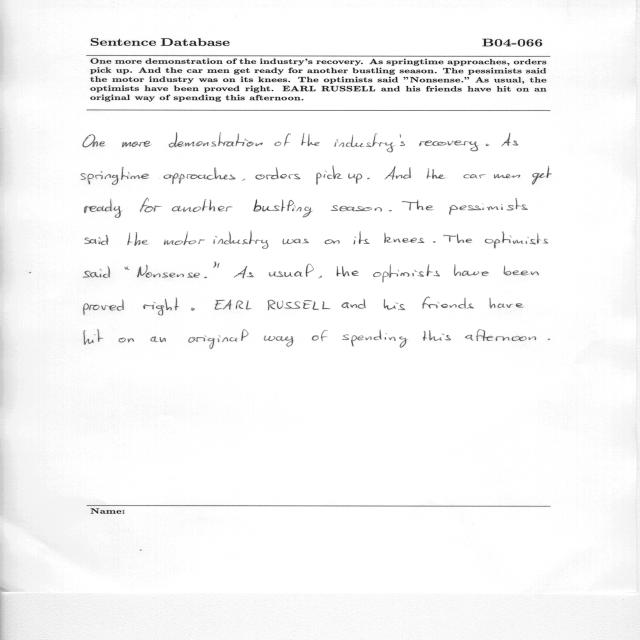word: (169, 133, 263, 148), (334, 133, 405, 152), (449, 198, 528, 215), (342, 329, 408, 348), (163, 167, 236, 184), (81, 167, 149, 185), (188, 329, 249, 349), (373, 265, 440, 283), (485, 232, 549, 249), (253, 199, 313, 217), (214, 231, 269, 249), (465, 329, 536, 341), (137, 265, 200, 278), (172, 199, 233, 212), (85, 199, 122, 218), (143, 297, 179, 316), (419, 141, 478, 152), (268, 300, 331, 310), (422, 297, 474, 309), (84, 300, 124, 315), (256, 167, 301, 180), (269, 264, 314, 277), (164, 231, 205, 245), (316, 166, 343, 185), (454, 264, 489, 276), (384, 233, 425, 243), (532, 166, 552, 185), (384, 166, 411, 180), (215, 300, 252, 310), (504, 266, 539, 276), (489, 298, 524, 308), (264, 335, 293, 347), (83, 266, 110, 278), (402, 201, 433, 211), (140, 198, 162, 212), (423, 330, 451, 341), (331, 205, 382, 211), (84, 329, 103, 345), (128, 232, 149, 246), (83, 135, 105, 148), (443, 234, 472, 243), (341, 299, 366, 309), (301, 133, 320, 146), (85, 235, 109, 245), (234, 266, 254, 278), (274, 133, 291, 147), (353, 231, 370, 245), (384, 299, 405, 310), (336, 266, 359, 276), (502, 133, 519, 146), (427, 168, 446, 179), (312, 330, 328, 341), (122, 141, 151, 147), (282, 239, 309, 245), (348, 173, 362, 184), (494, 174, 520, 178), (150, 336, 166, 342), (464, 175, 486, 179), (325, 240, 340, 245), (118, 338, 134, 342), (213, 262, 220, 268), (125, 266, 130, 270), (191, 308, 195, 311), (242, 179, 246, 181), (318, 276, 322, 278), (486, 144, 489, 146), (367, 178, 370, 180), (433, 241, 436, 243), (389, 210, 392, 211), (204, 277, 207, 278), (548, 339, 550, 340)
